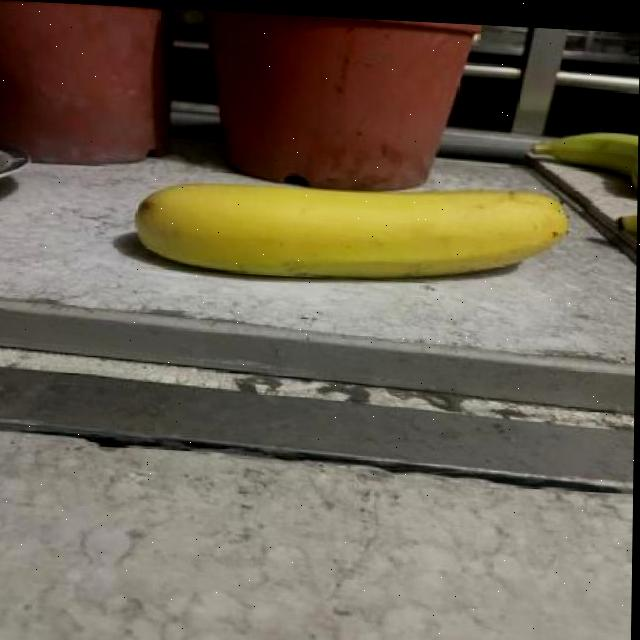banana: (124, 163, 572, 291)
